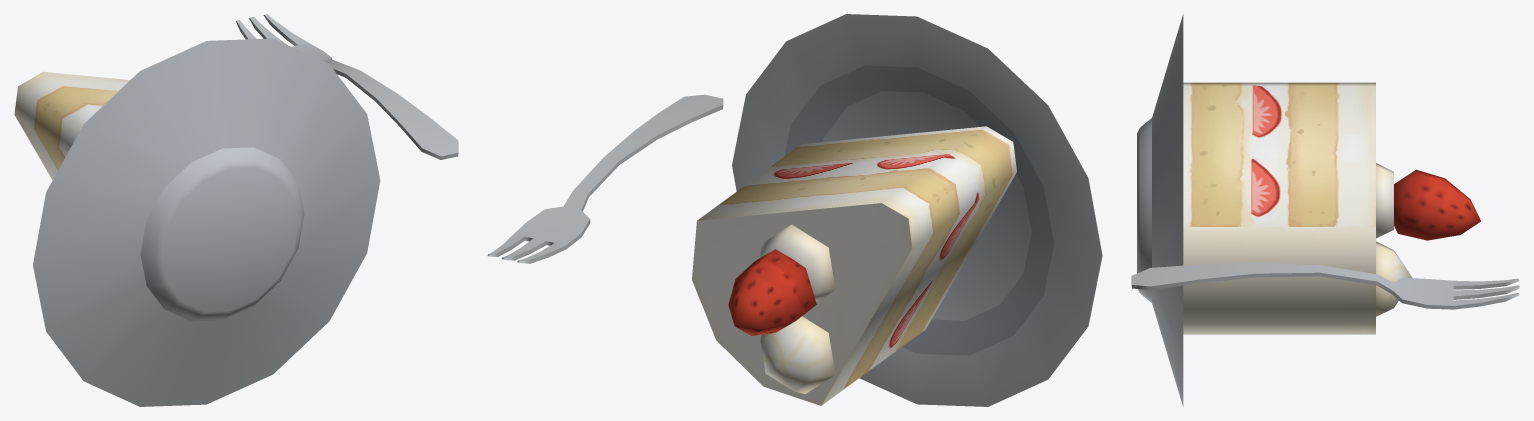
Rendered from Cake.fbx.
3 views of the same model, side by side, from view 1: azimuth 30°, elevation 25°; view 2: azimuth 150°, elevation 25°; view 3: azimuth 270°, elevation 25° (orthographic). The views are drawn at different scales.
Parts seen in each view (by area): view 1: Kazusa_Original_Cake.001, Kazusa_Original_Cake.003; view 2: Kazusa_Original_Cake.001, Kazusa_Original_Cake.003, Kazusa_Original_Cake.002; view 3: Kazusa_Original_Cake.001, Kazusa_Original_Cake.003, Kazusa_Original_Cake.002.
Part boxes in pixels (x1,y1,x2,y2): Kazusa_Original_Cake.001: (14, 38, 380, 406); Kazusa_Original_Cake.003: (235, 14, 458, 159); Kazusa_Original_Cake.001: (692, 14, 1102, 406); Kazusa_Original_Cake.003: (487, 94, 723, 263); Kazusa_Original_Cake.002: (728, 249, 816, 335); Kazusa_Original_Cake.001: (1137, 14, 1412, 406); Kazusa_Original_Cake.003: (1131, 262, 1519, 309); Kazusa_Original_Cake.002: (1394, 169, 1480, 240).
Bounding box in the file's own units: 12.15 × 10.17 × 10.03.
Materials: 1 (1 with a texture image).
